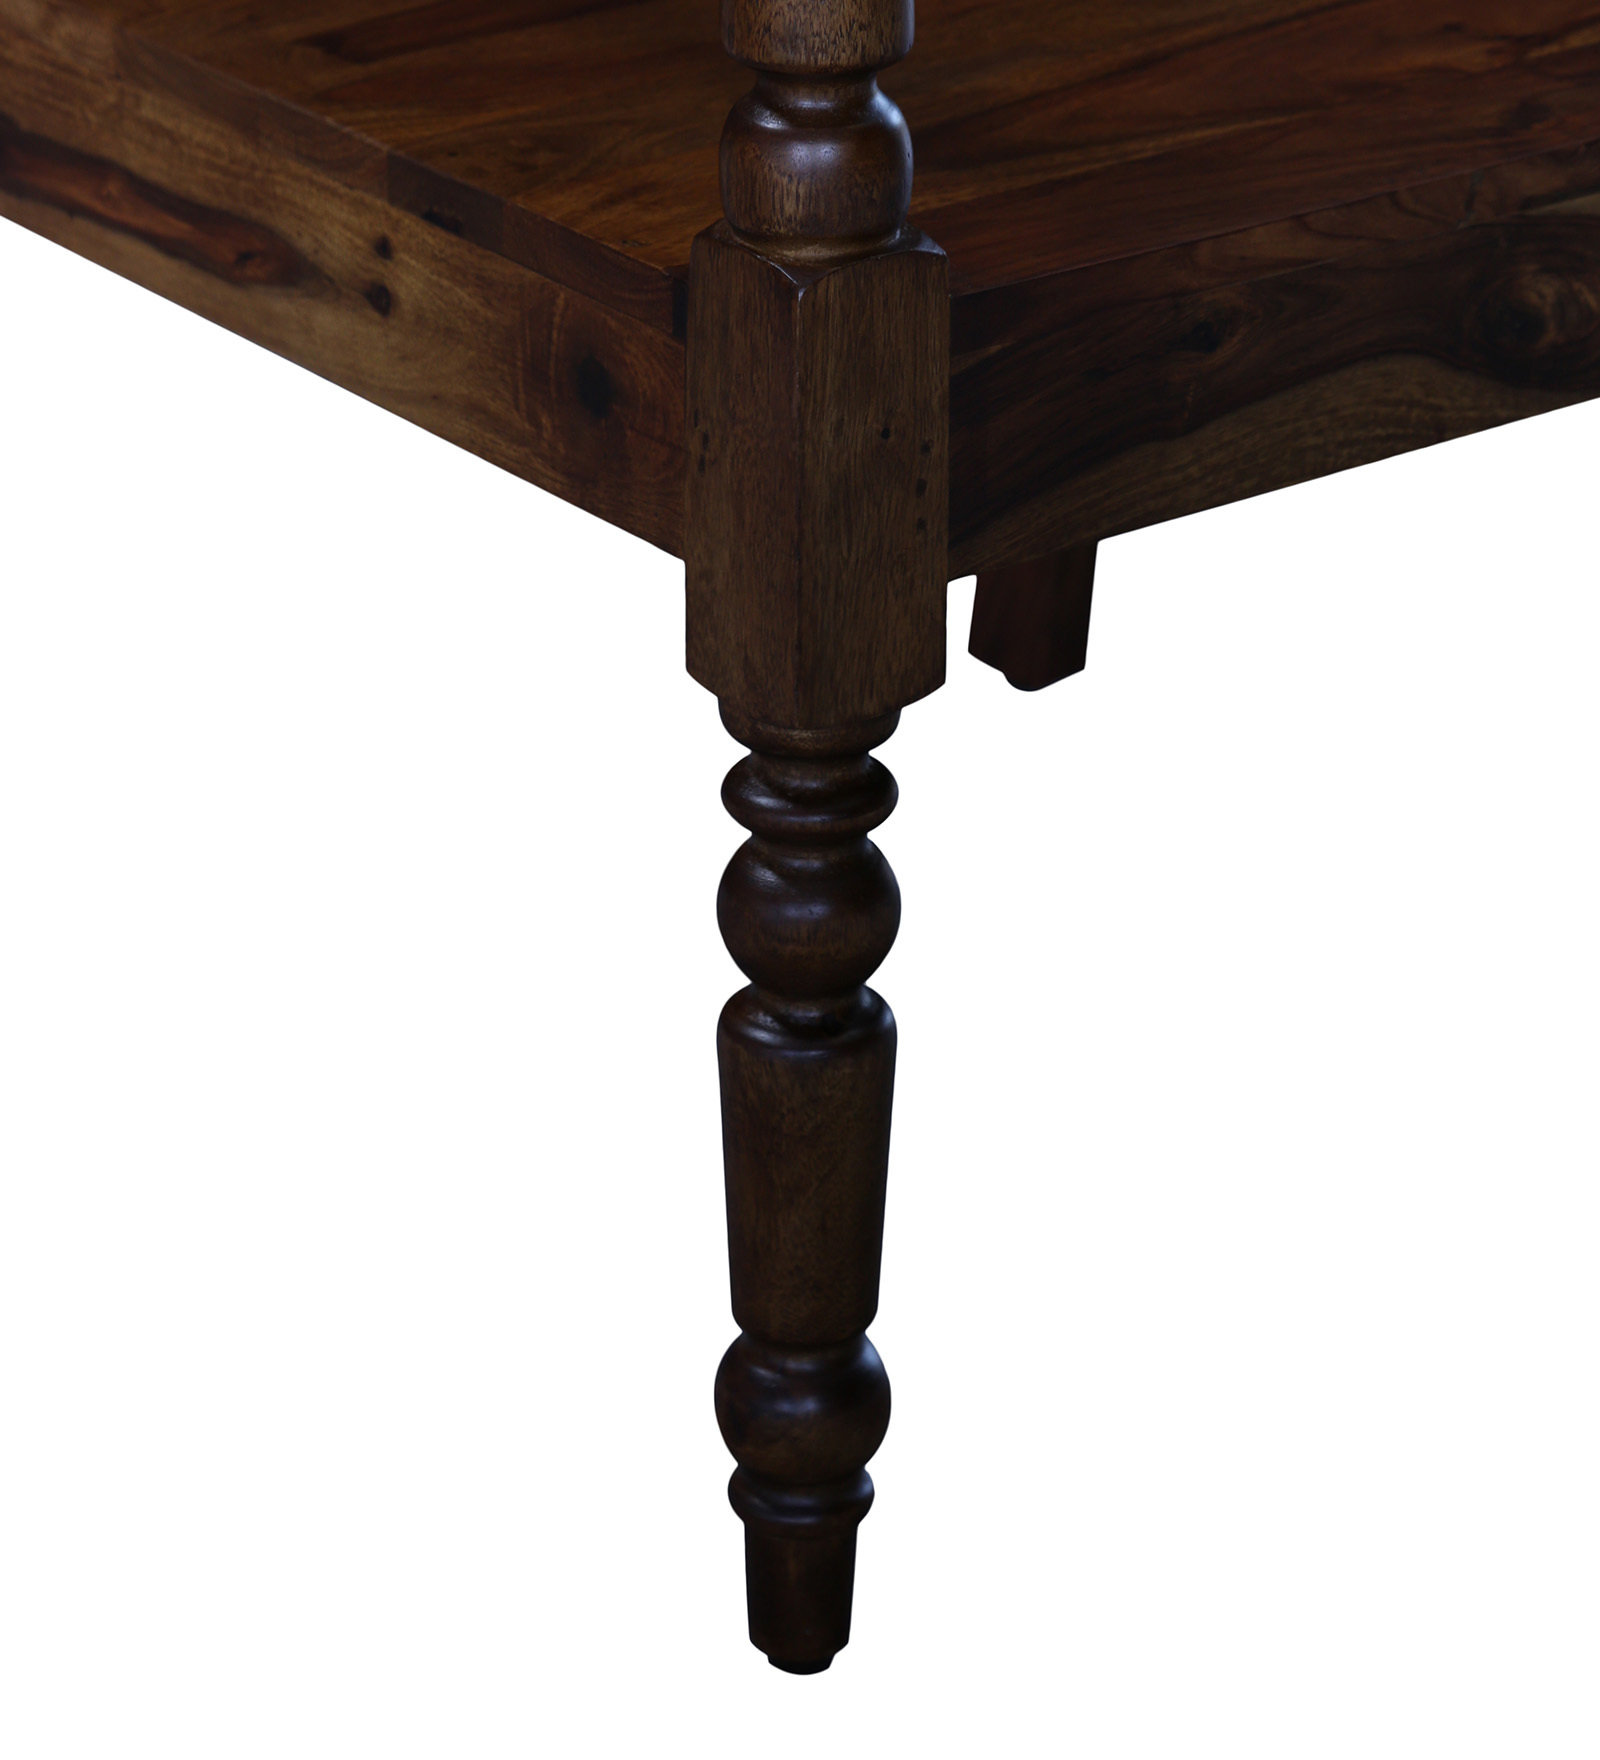Harleston Arm Chair in Provincial Teak Finish by Amberville: (12, 12, 1600, 1702)
